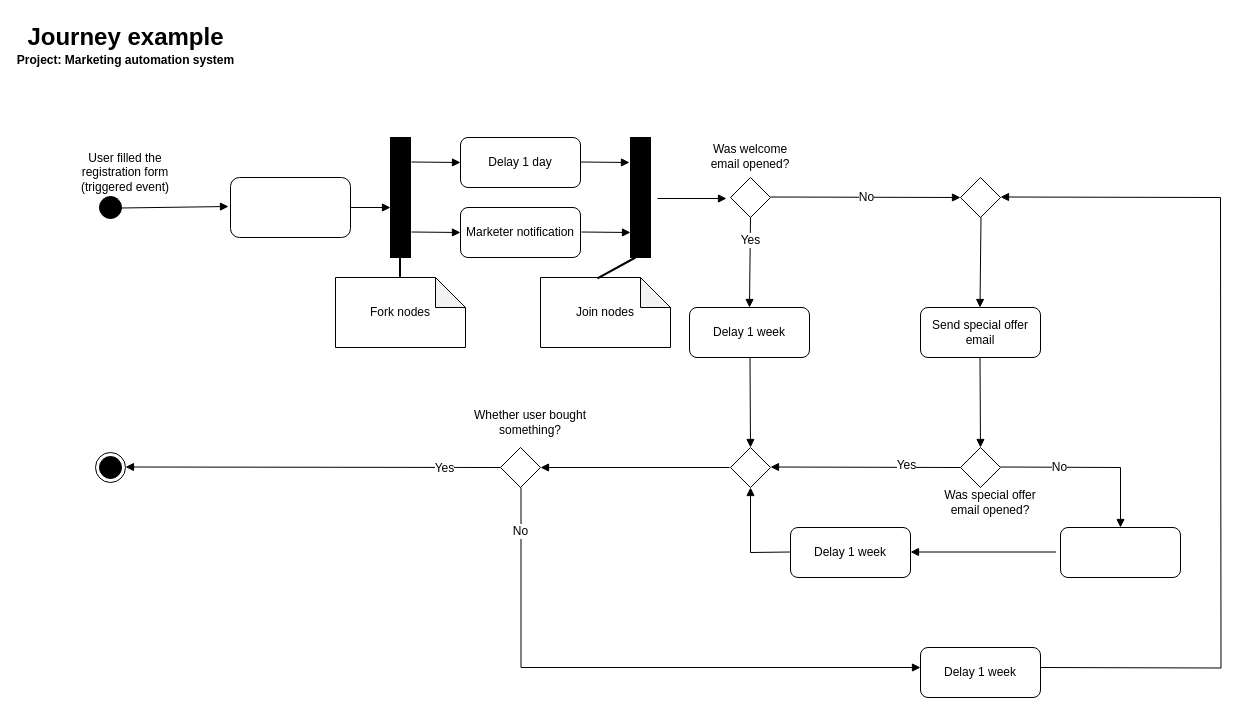
Some shapes in this 1246 by 715 pixel diagram are drawn without their labels. Here are the shapes that lost their labels. From the top down, the centre of each, then its label:
(290,207): Welcome email
(1120,552): Send SMS "We have discounts"
